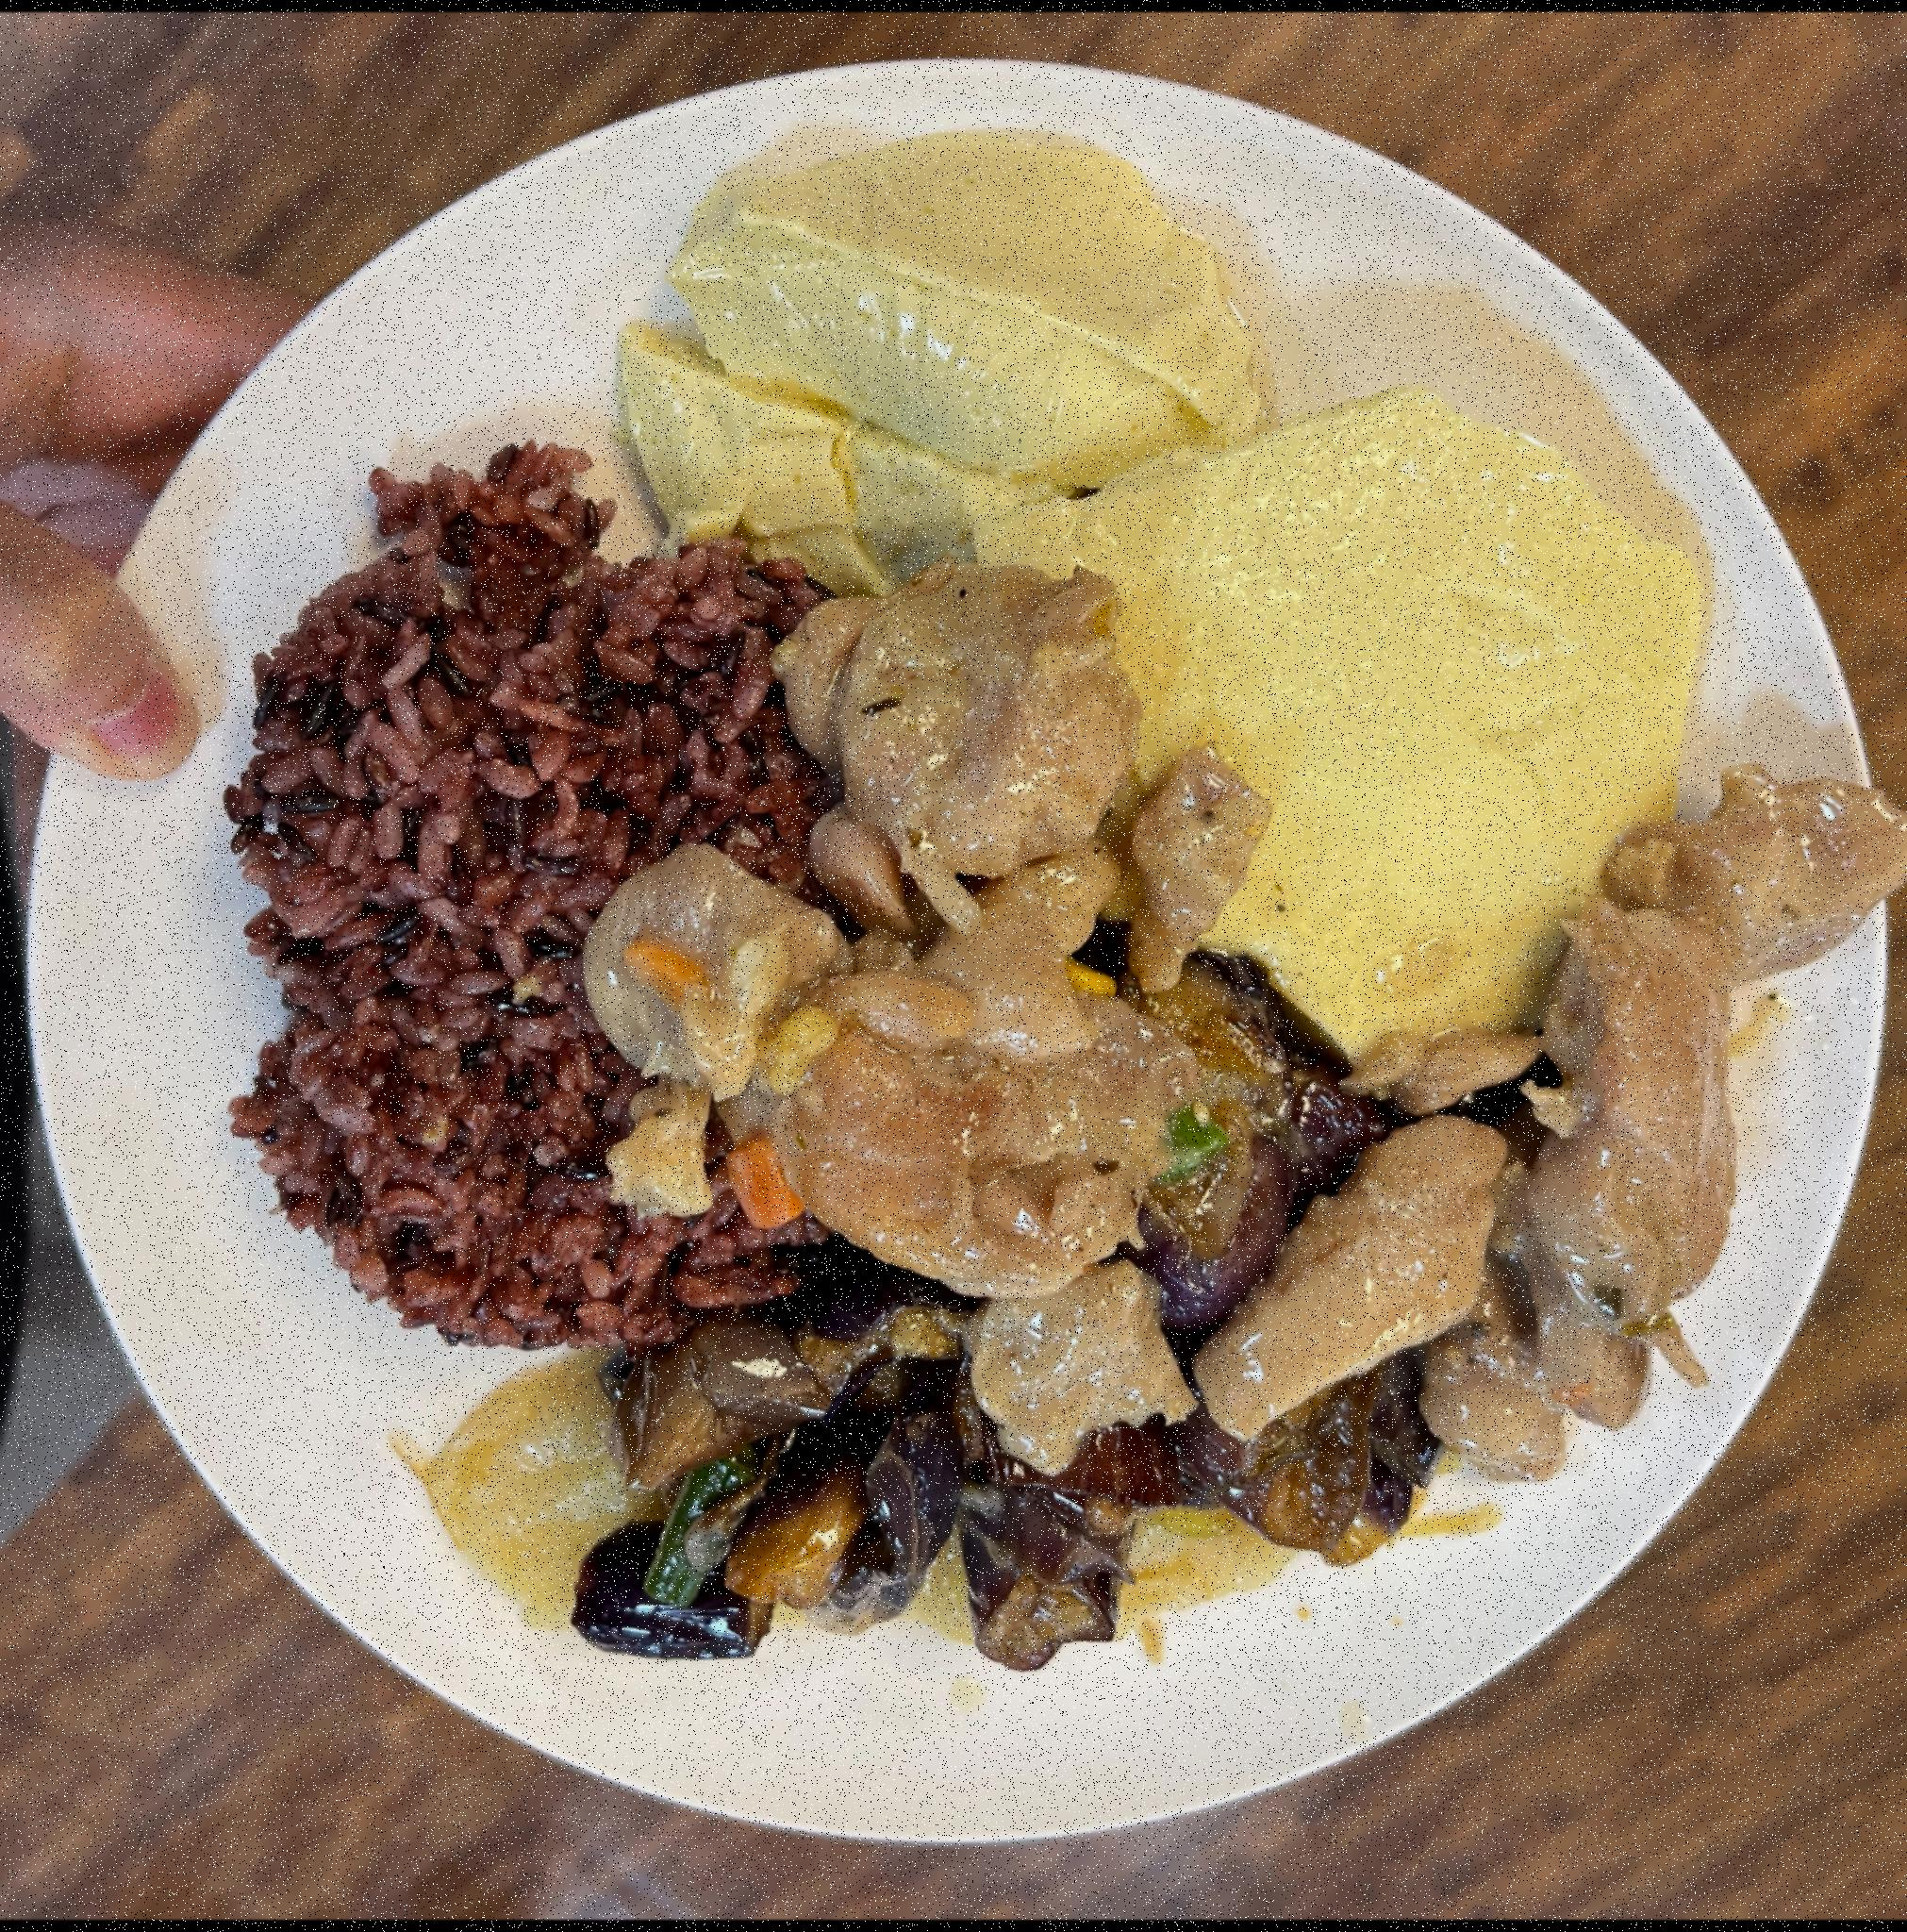big fried chicken leg: (0, 52, 1879, 1873)
braised fish: (204, 437, 866, 1368)
braised fish fillet: (604, 133, 1729, 1074), (461, 1343, 1448, 1679)
braised pork: (625, 543, 1905, 1448)
